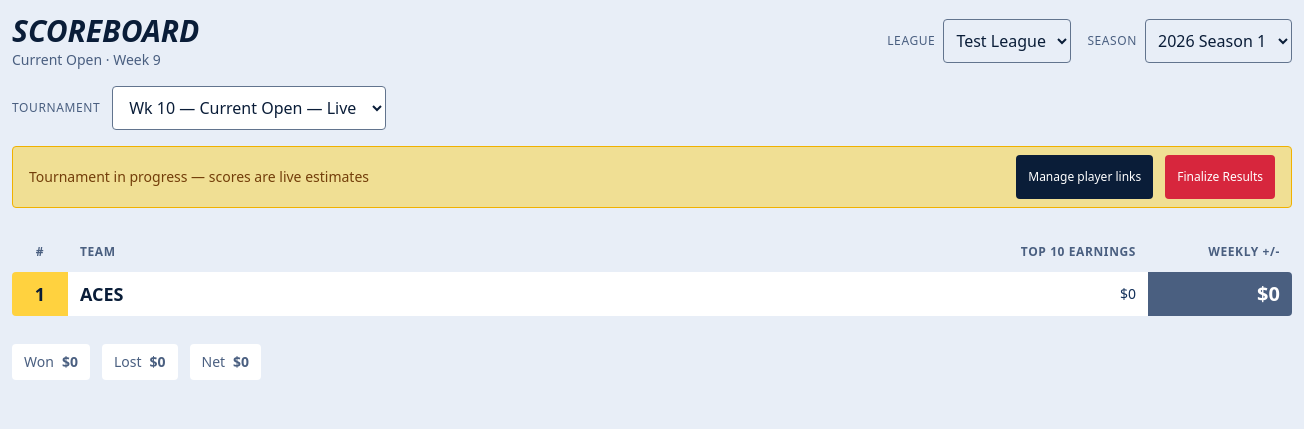
Test: ScoreboardPage › shows that the import raised none after an admin finalizes a tournament
Check: the text "No ESPN import warnings from finalizing Current Open" is not shown
Click the button "Finalize Results".
click(1220, 176)  # box [1165, 154, 1275, 198]
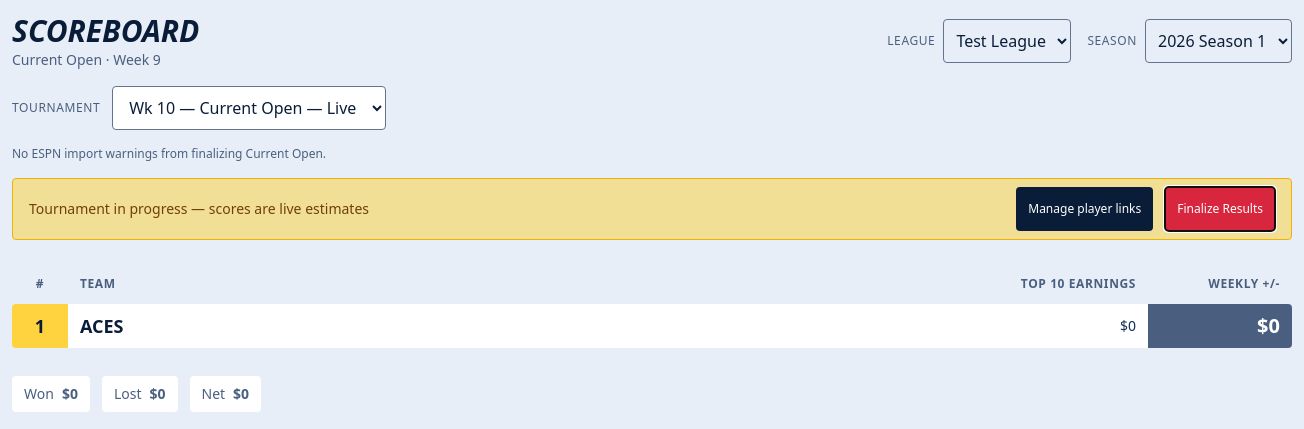
Check: the text "No ESPN import warnings from finalizing Current Open." is shown, box [12, 144, 326, 162]
